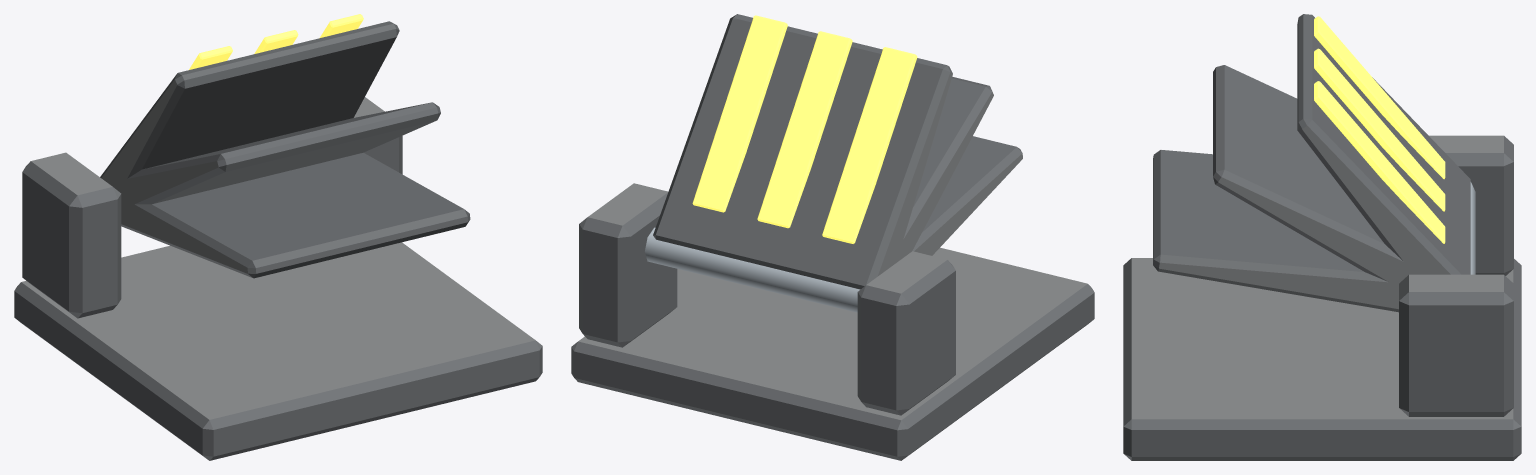
File: R4X_RampDeployer_LOD1.glb
3 renders of one model, left to right at view 1: azimuth 30°, elevation 25°; view 2: azimuth 150°, elevation 25°; view 3: azimuth 270°, elevation 25°, orthographic. The views are drawn at different scales.
Visible parts, largest first — view 1: R4X_RampDeployer_LOD1; view 2: R4X_RampDeployer_LOD1; view 3: R4X_RampDeployer_LOD1.
Boxes of the visible parts, <box> form: R4X_RampDeployer_LOD1: <box>14,14,542,460</box>; R4X_RampDeployer_LOD1: <box>571,14,1094,460</box>; R4X_RampDeployer_LOD1: <box>1123,14,1521,460</box>.
Bounding box in the file's own units: 0.52 × 0.4673 × 0.52.
